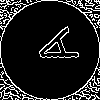A: (25, 25, 79, 74)
